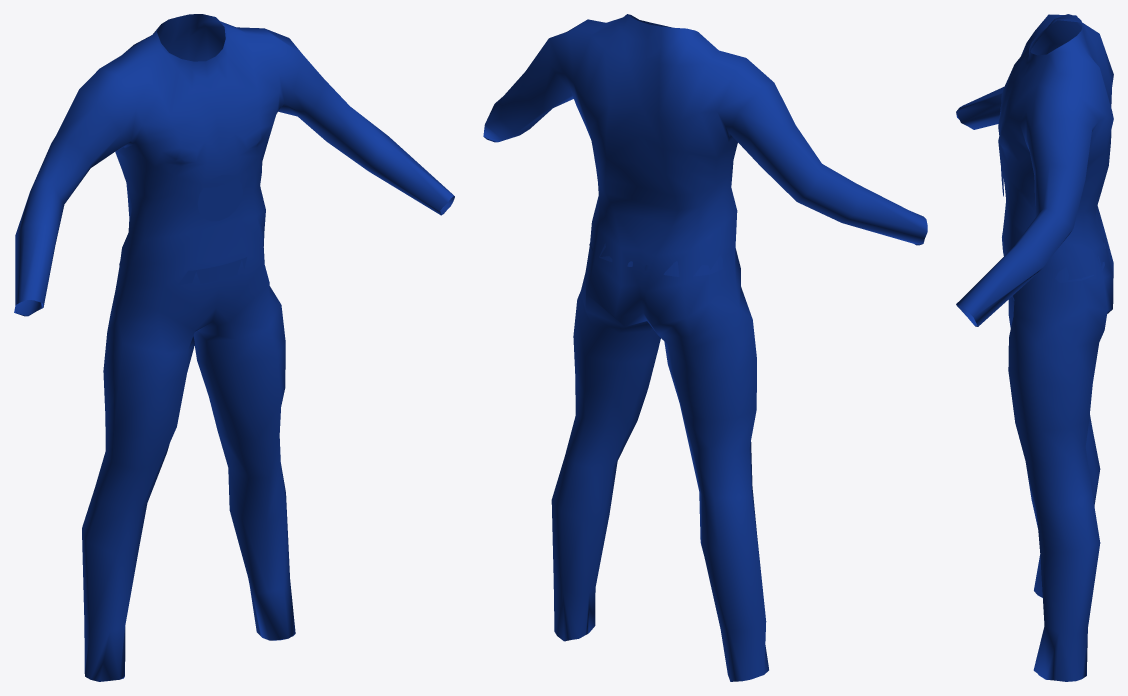
Rendered from bodysuit.glb.
3 views of the same model, side by side, from view 1: azimuth 30°, elevation 25°; view 2: azimuth 150°, elevation 25°; view 3: azimuth 270°, elevation 25° (orthographic). The views are drawn at different scales.
Parts seen in each view (by area): view 1: bodysuit; view 2: bodysuit; view 3: bodysuit.
Boxes of the visible parts, x1,y1,x2,y2 form: bodysuit: (14, 14, 454, 681); bodysuit: (483, 14, 927, 681); bodysuit: (956, 14, 1113, 681).
Bounding box in the file's own units: 1.07 × 1.46 × 0.3422.
